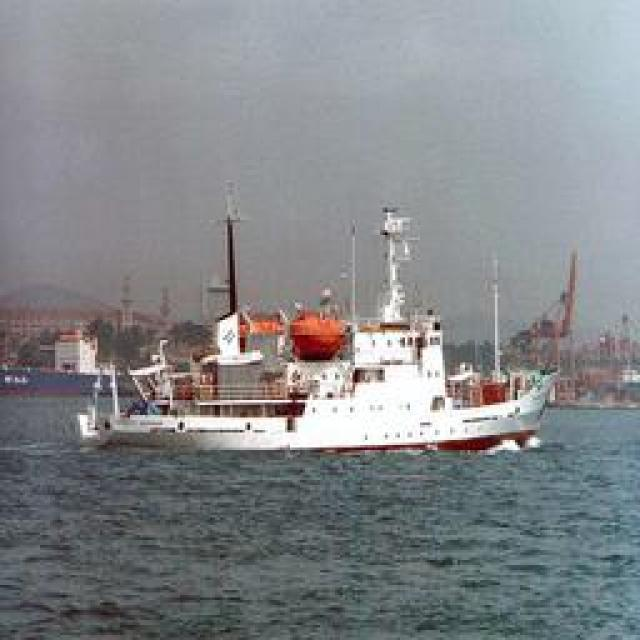ship2: (77, 185, 557, 459)
